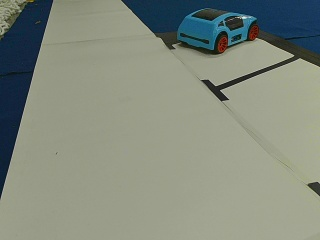car: (175, 8, 259, 53)
